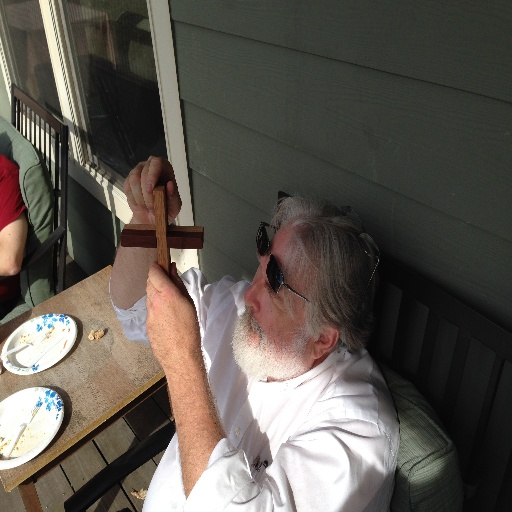hand: (145, 259, 202, 369), (116, 153, 174, 228)
